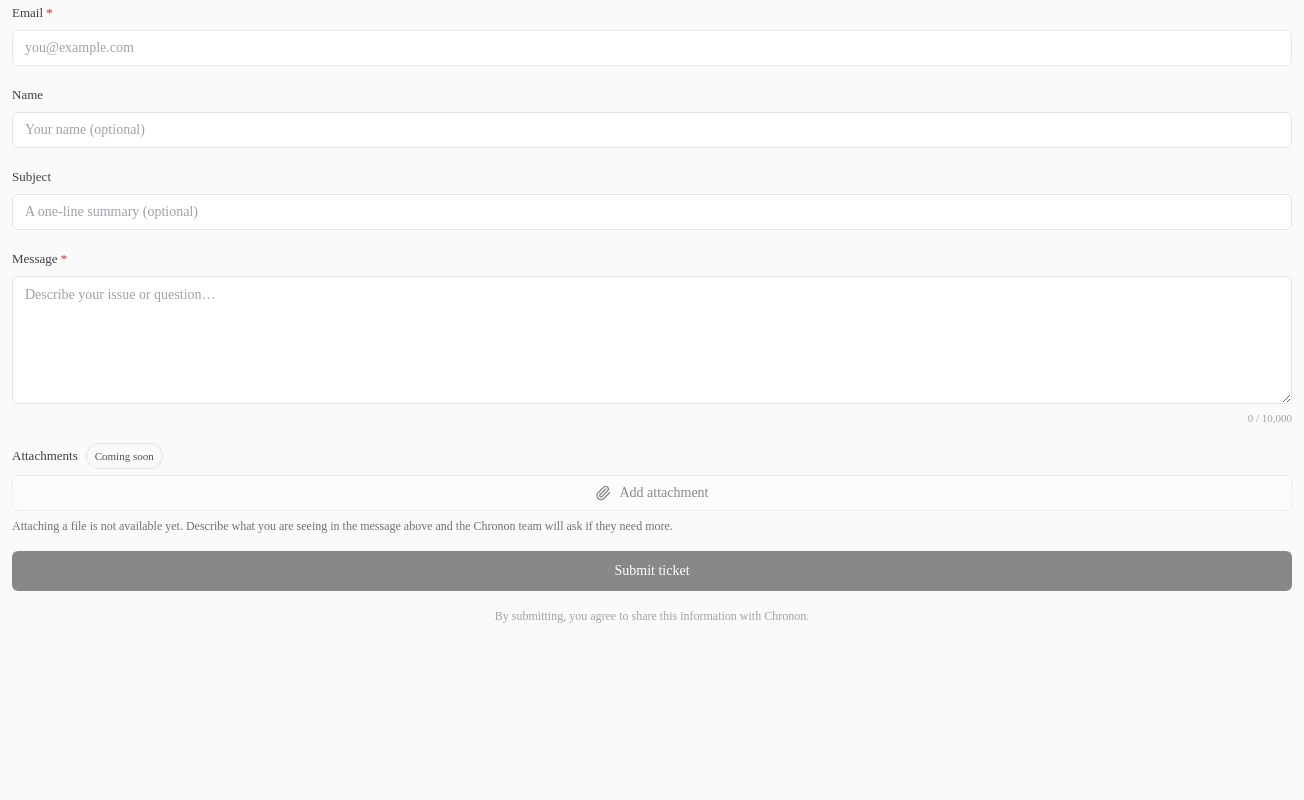
Test: SubmitTicketForm › submits the typed values once and shows the success panel
Type "ada@example.dev" into the field labelled "Email *" at point(652, 48), box [12,30,1292,66]
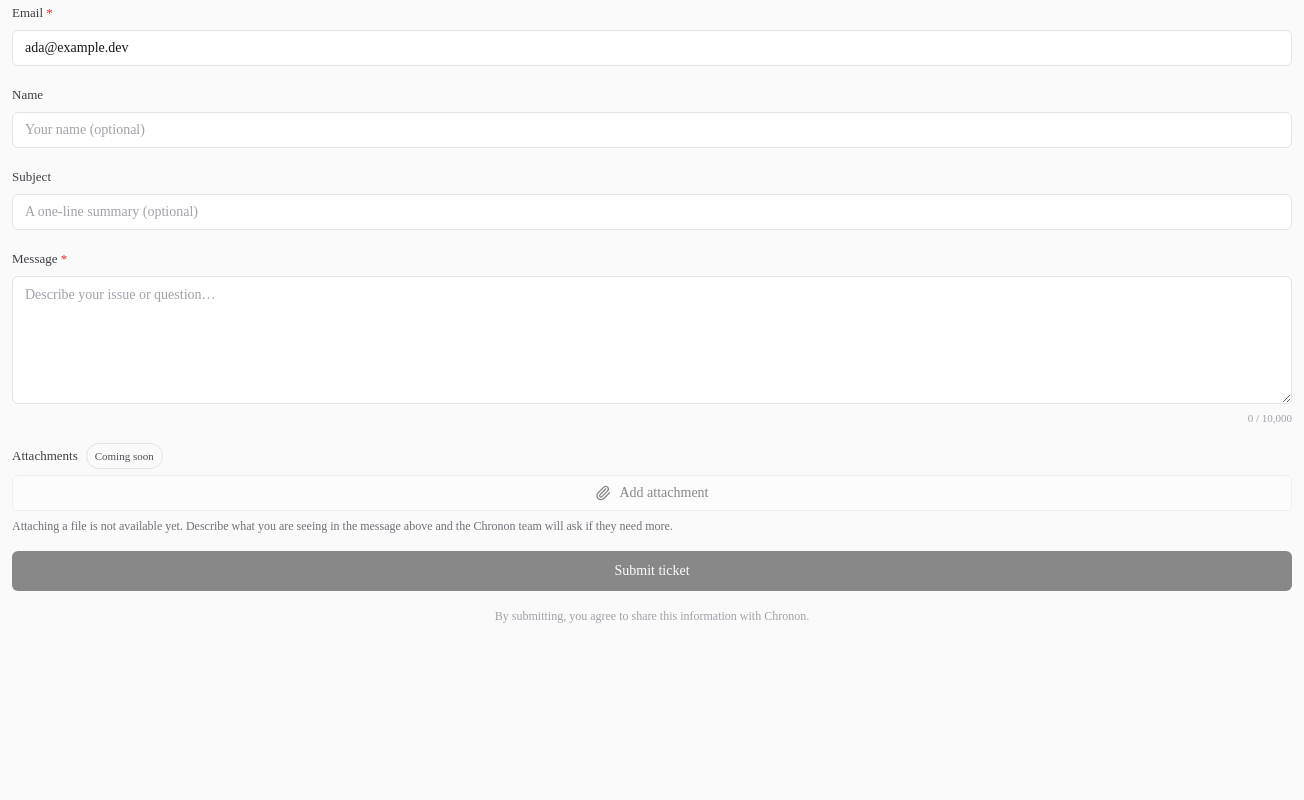
Type "Where is my order?" into the text box labelled "Message *" at point(652, 340), box [12,276,1292,404]
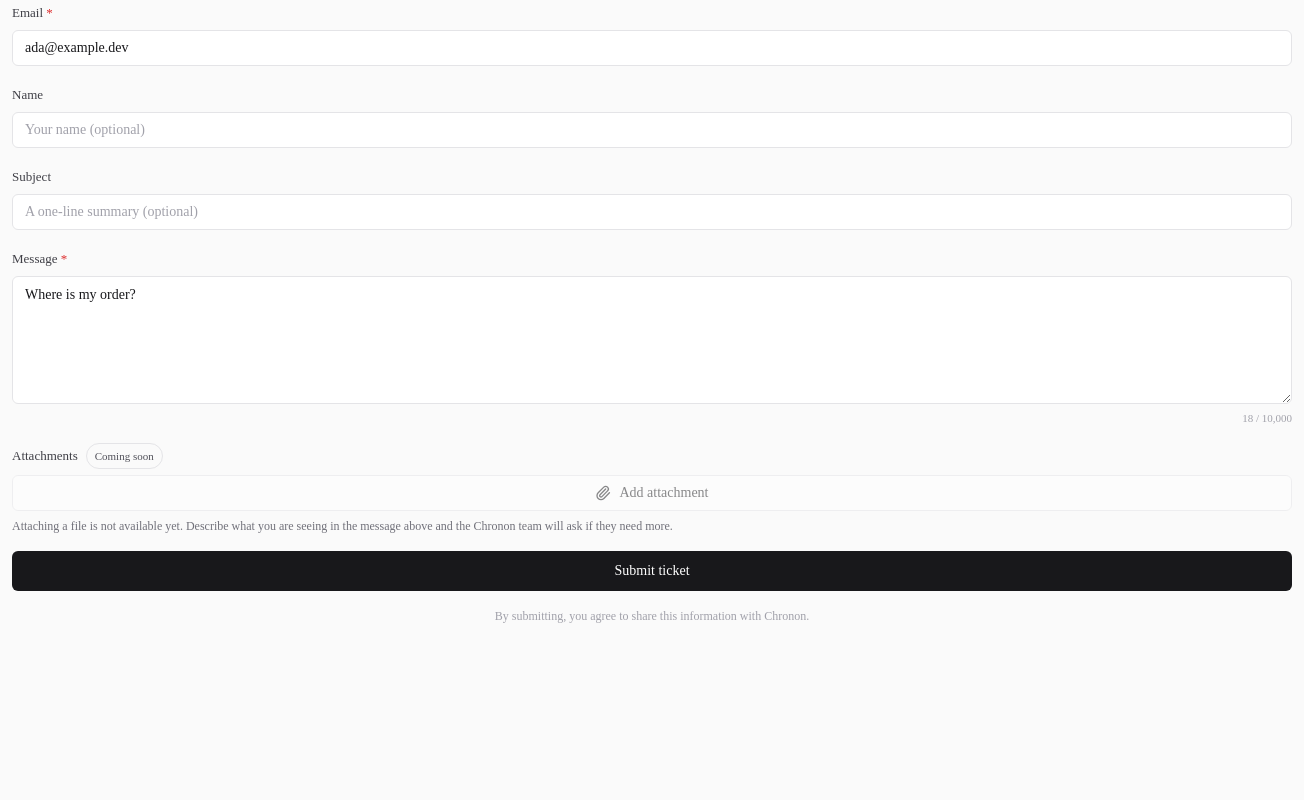
Type "Ada Lovelace" into the field labelled "Name" at point(652, 130), box [12,112,1292,148]
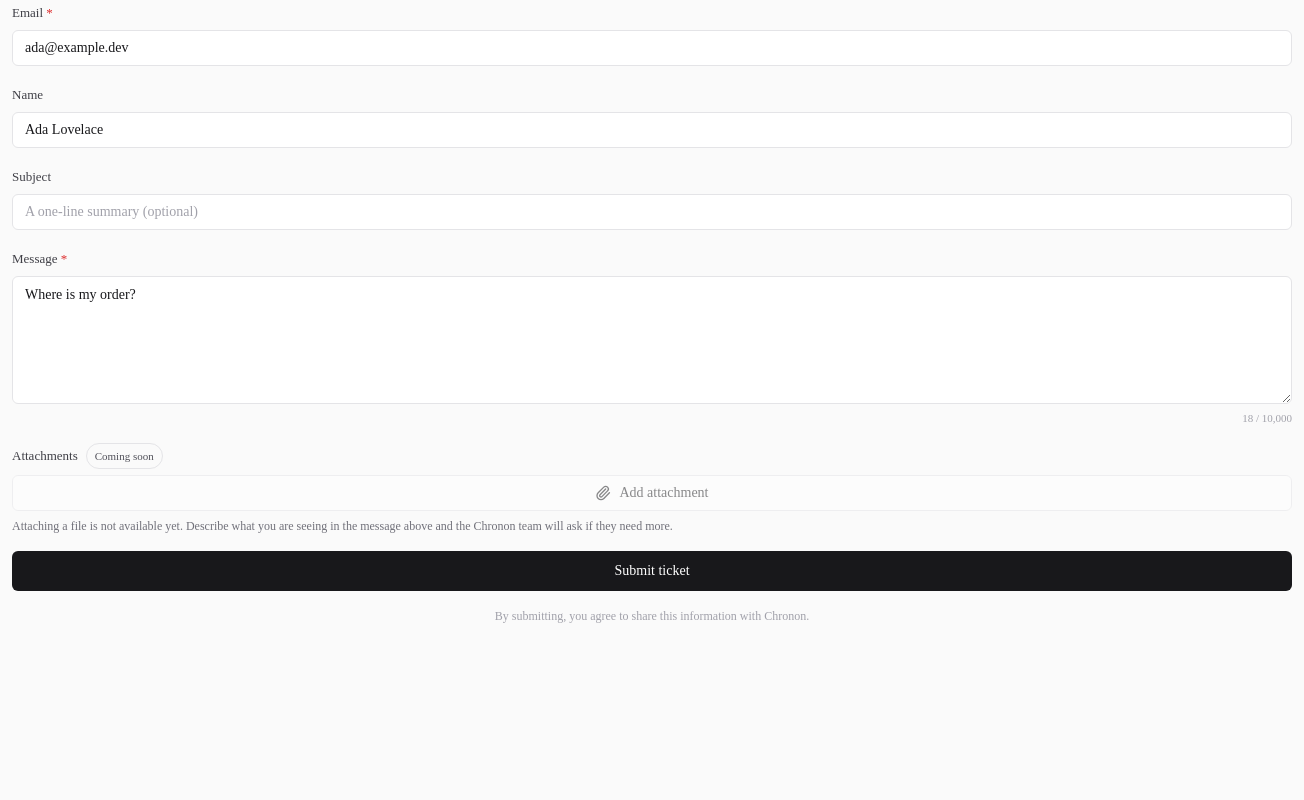
Type "Refund" into the field labelled "Subject" at point(652, 212), box [12,194,1292,230]
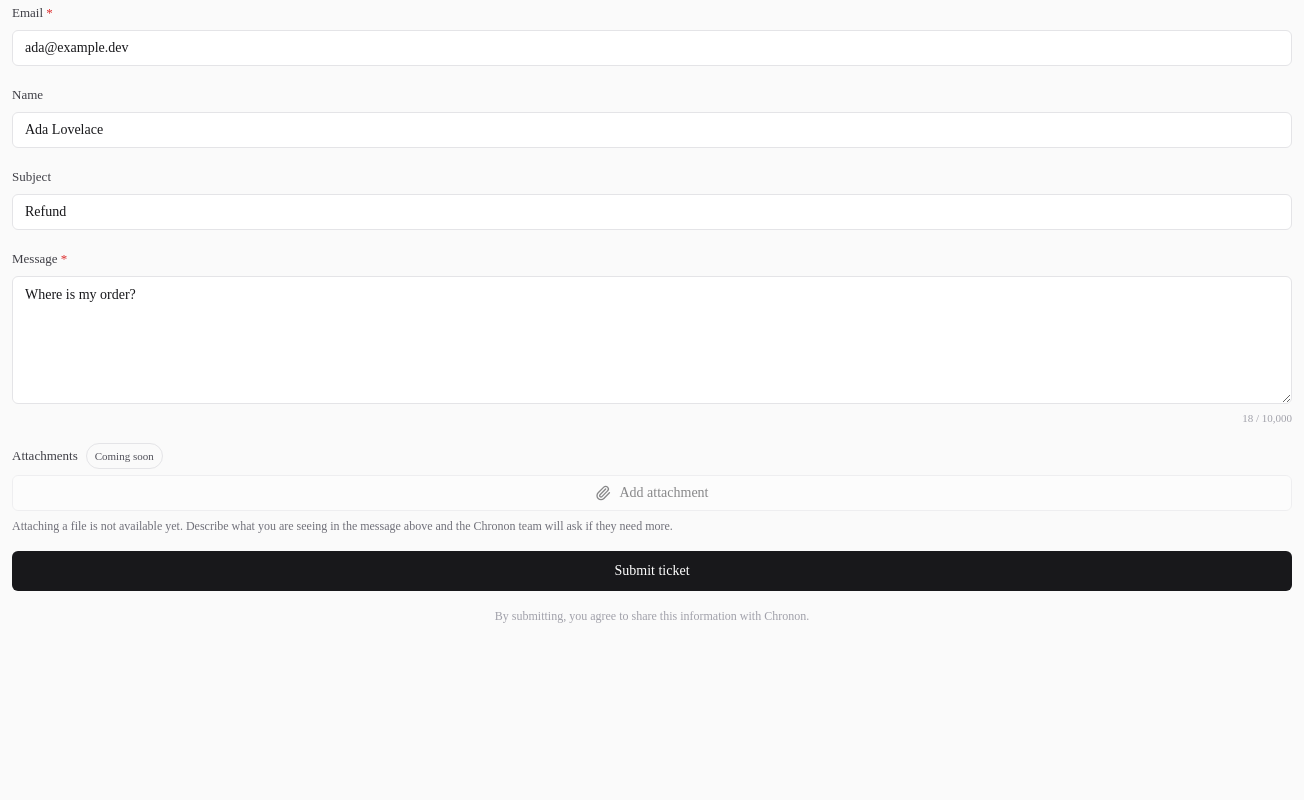
Click the button "Submit ticket" at point(652, 570), box [12,550,1292,590]
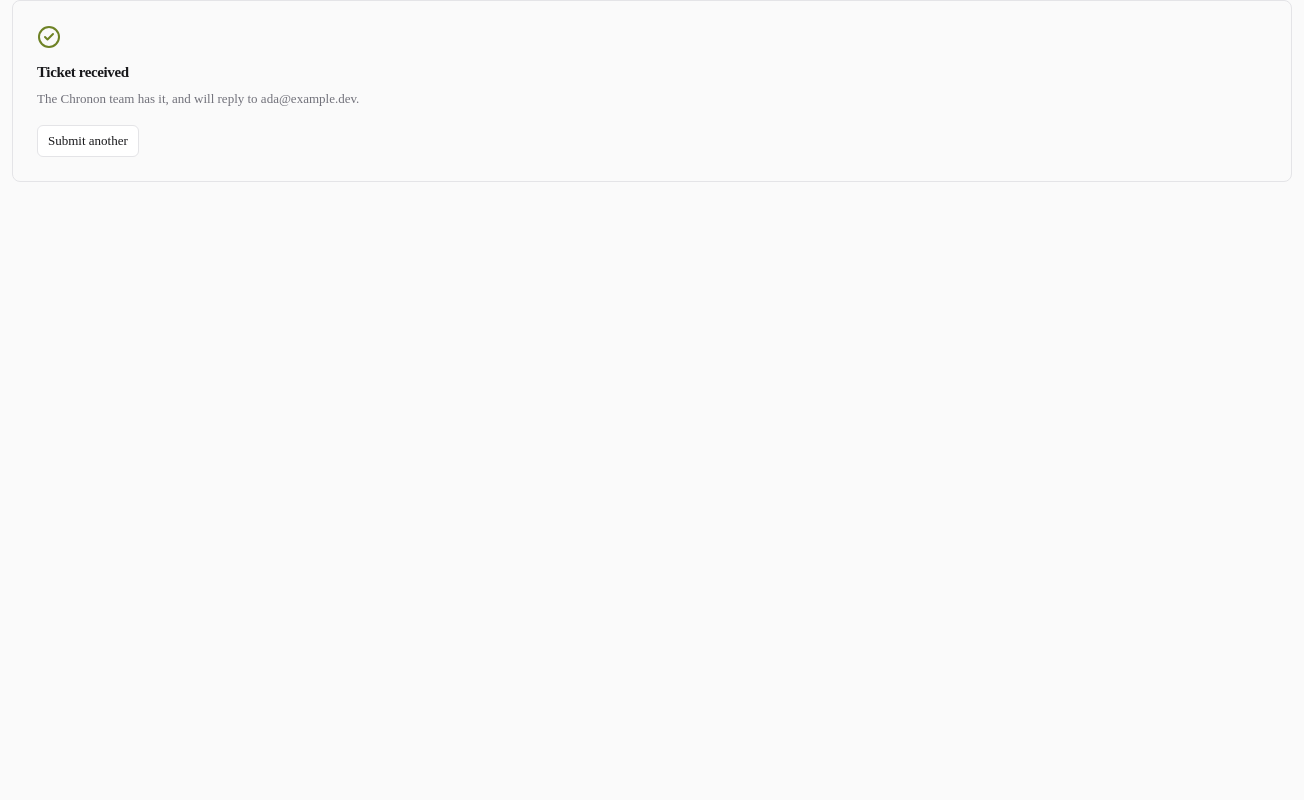
Expected: the heading "Ticket received" is shown, [37,64,129,80]
